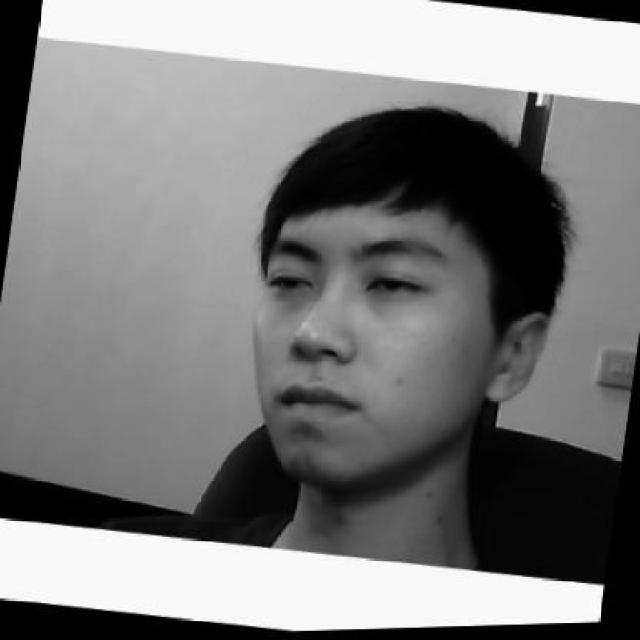inattentif: (227, 81, 576, 518)
